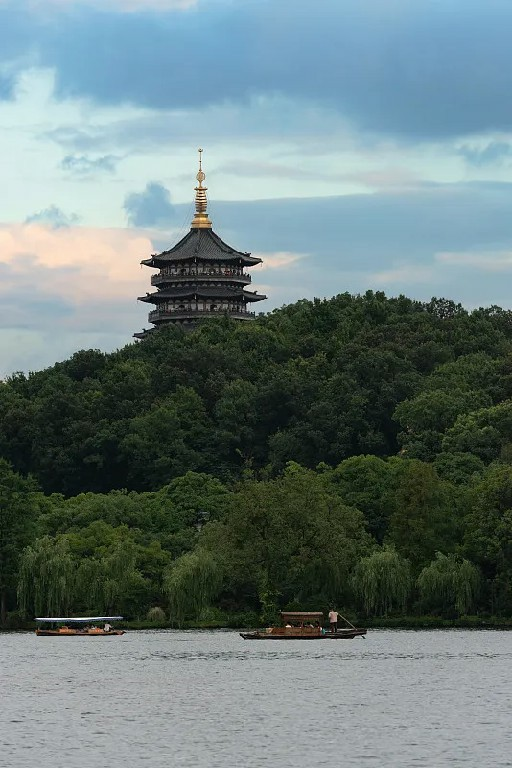Leifeng: (133, 149, 266, 343)
